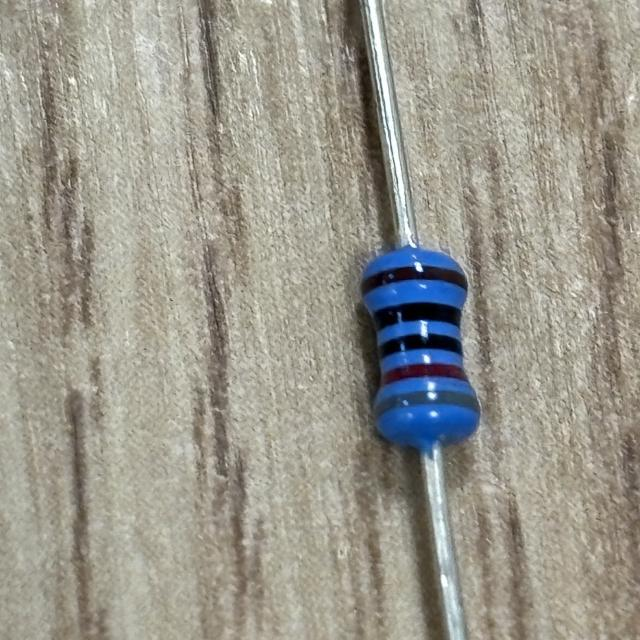resistor: (355, 251, 488, 435)
